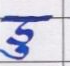u_matra: (0, 46, 31, 60)
